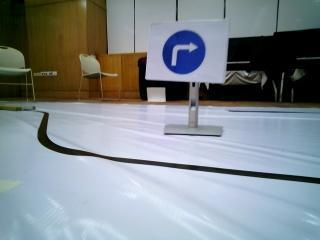right: (150, 23, 217, 83), (190, 31, 191, 31)
